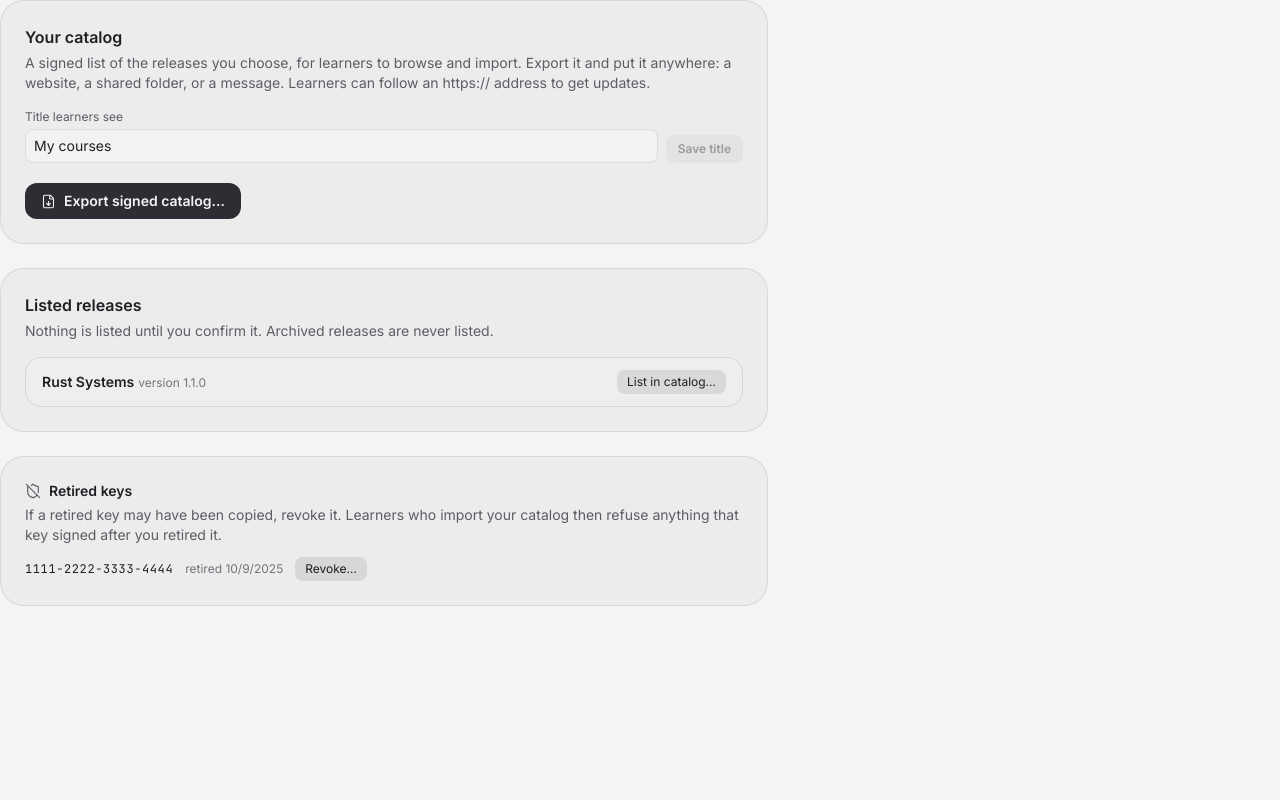
it: publisher catalog › lists a release only after explicit confirmation and never shows archived ones
Click the button "List in catalog…": (672, 382) [617, 370, 726, 394]
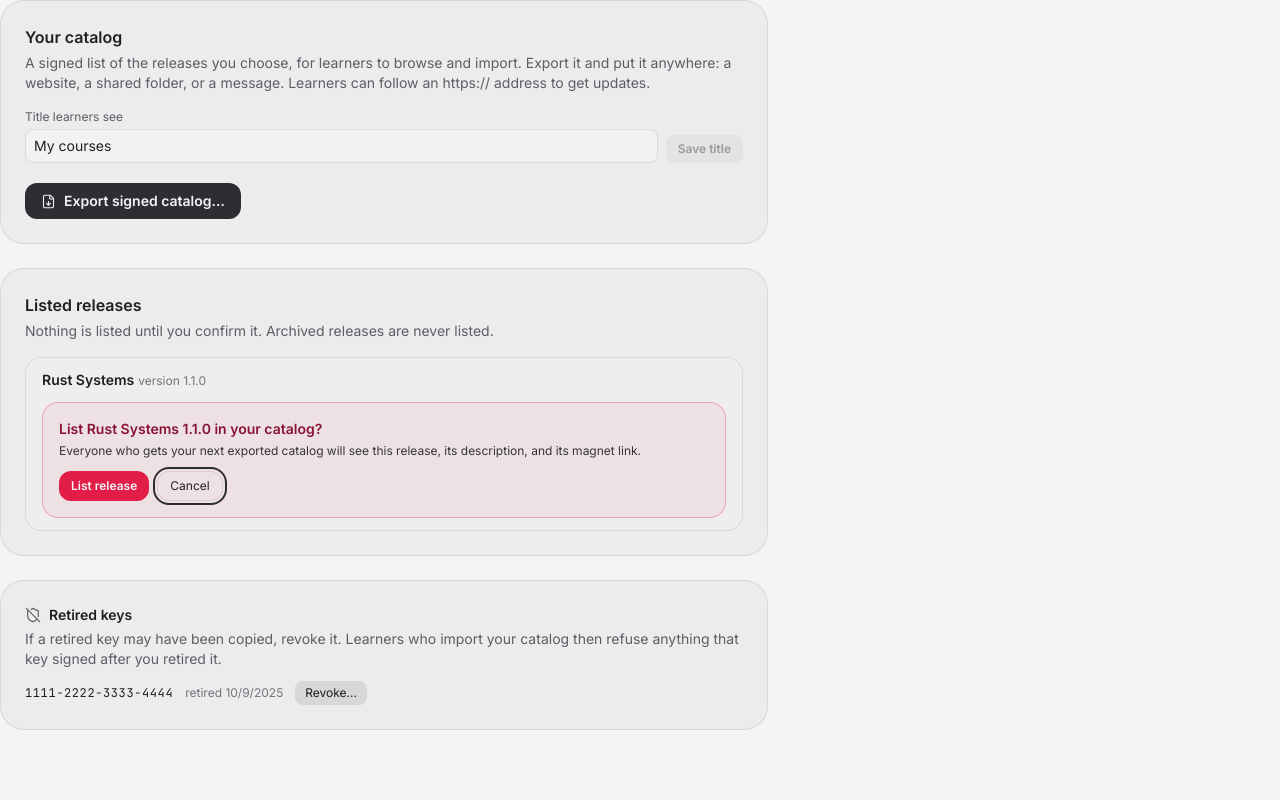
Now the dialog "List Rust Systems 1.1.0 in your catalog?" shows "its magnet link", box [59, 443, 641, 458]
Click the button "List release": (104, 486) [59, 471, 149, 501]
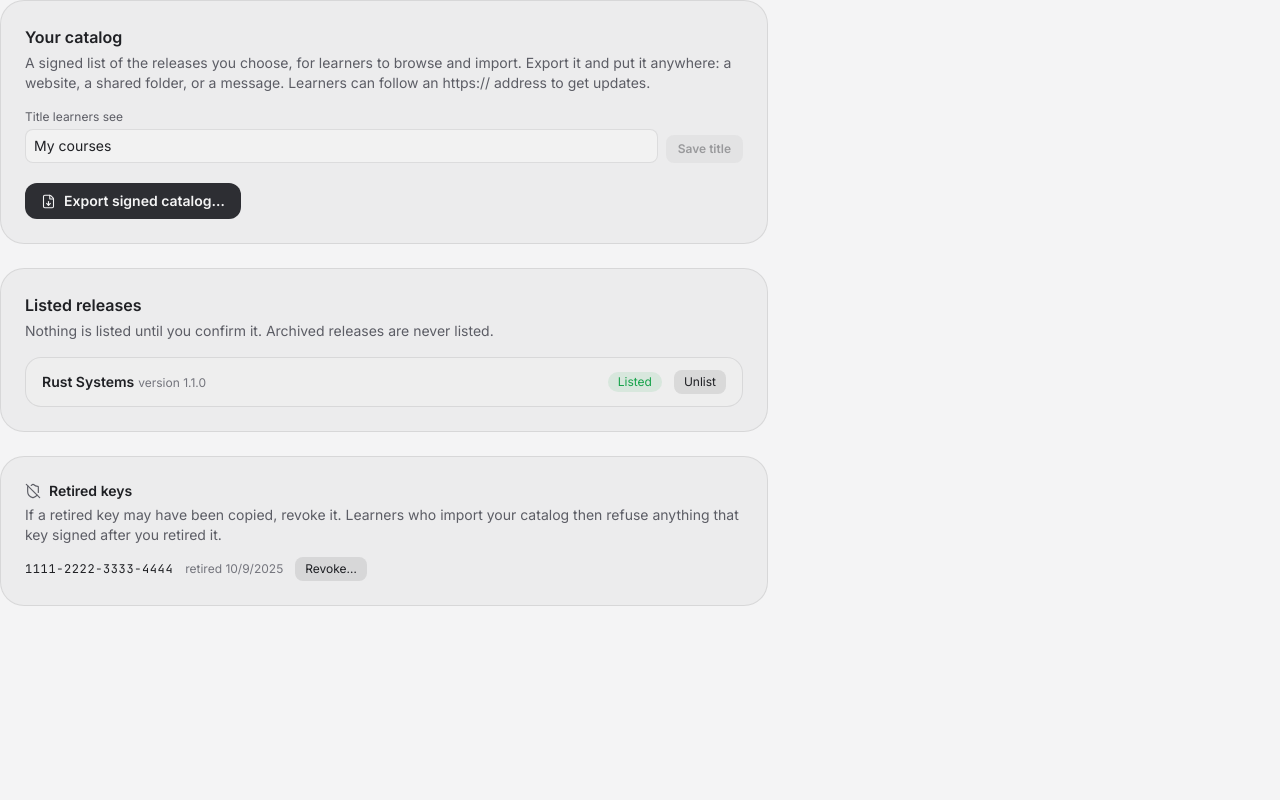
Now the text "Listed" is shown, box [608, 372, 662, 392]
